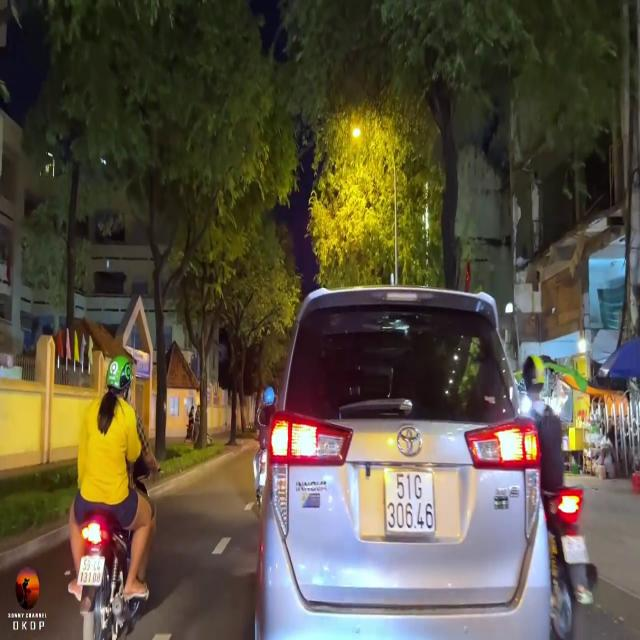bien_trang: (382, 465, 437, 540), (76, 545, 105, 589)
